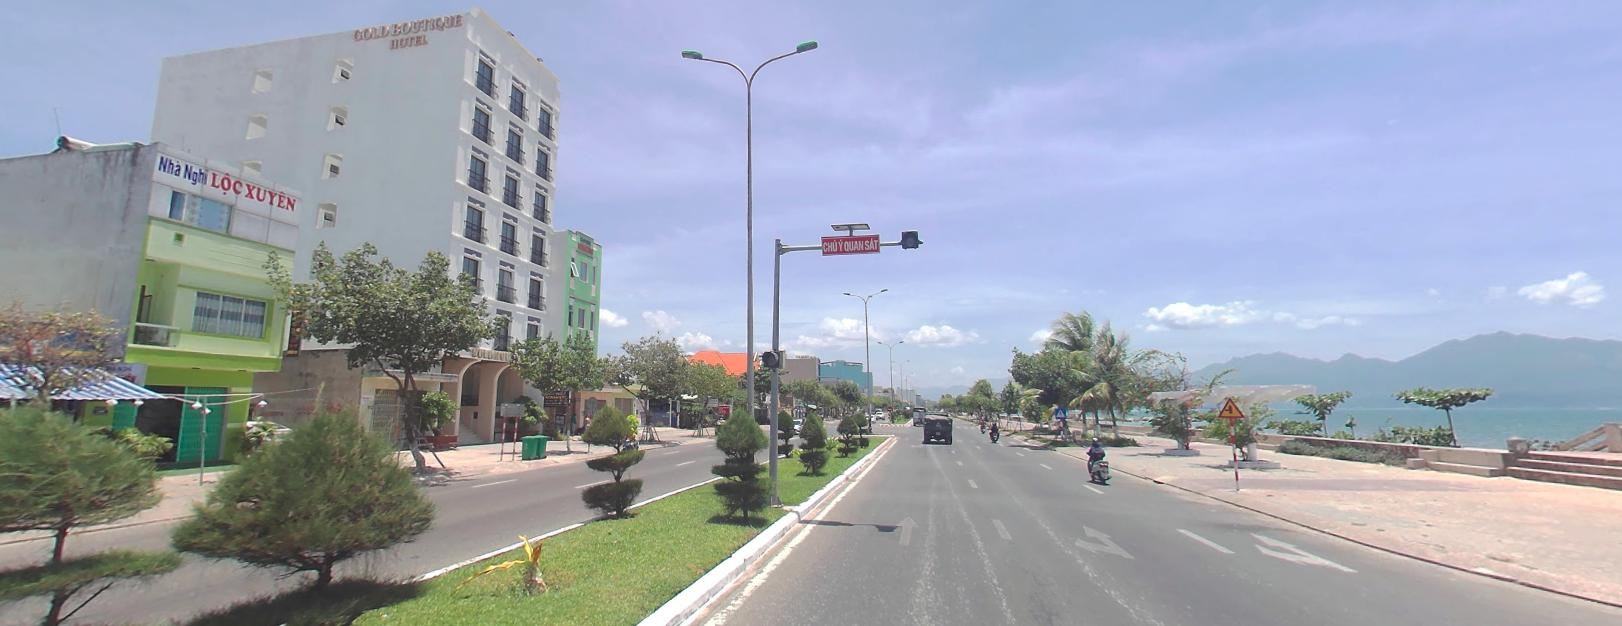Cam nguoc chieu: (887, 405, 892, 410)
Nguy hiem: (1216, 393, 1246, 419)
